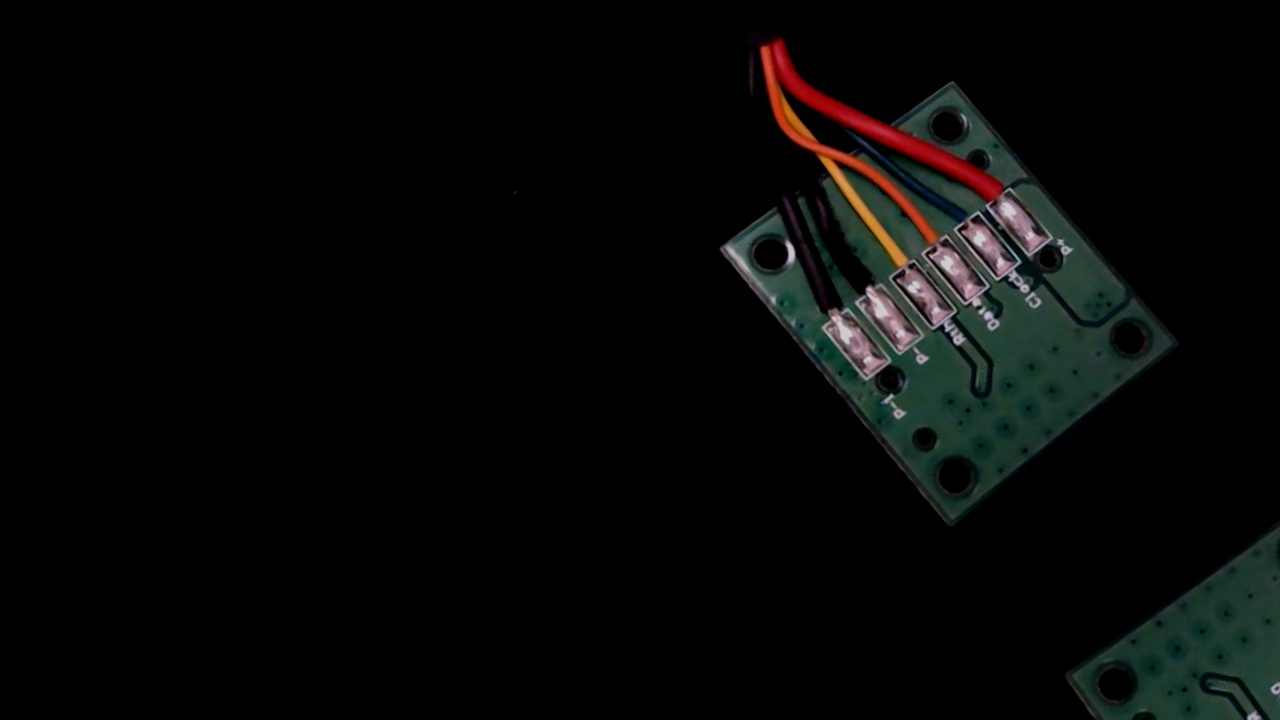Black: (819, 234, 896, 316)
Black1: (785, 264, 859, 341)
Green: (917, 166, 992, 245)
Orange: (886, 188, 961, 267)
Red: (949, 145, 1023, 223)
Yellow: (850, 209, 928, 291)
